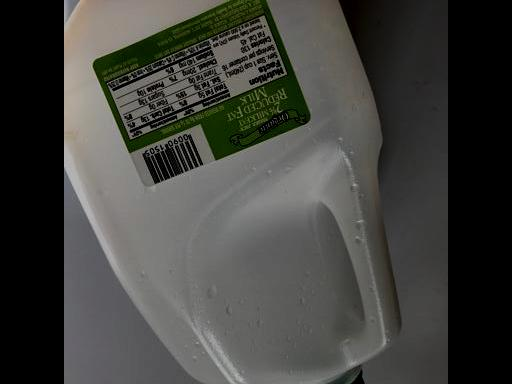bottle: (64, 0, 418, 384)
